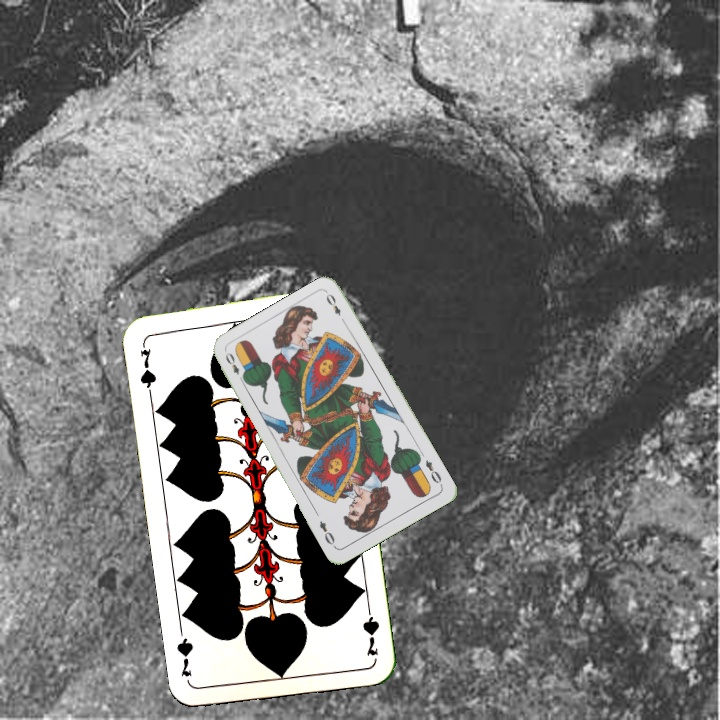EO: (221, 348, 247, 385), (421, 456, 445, 489)
G7: (358, 600, 382, 659), (136, 337, 159, 396)
